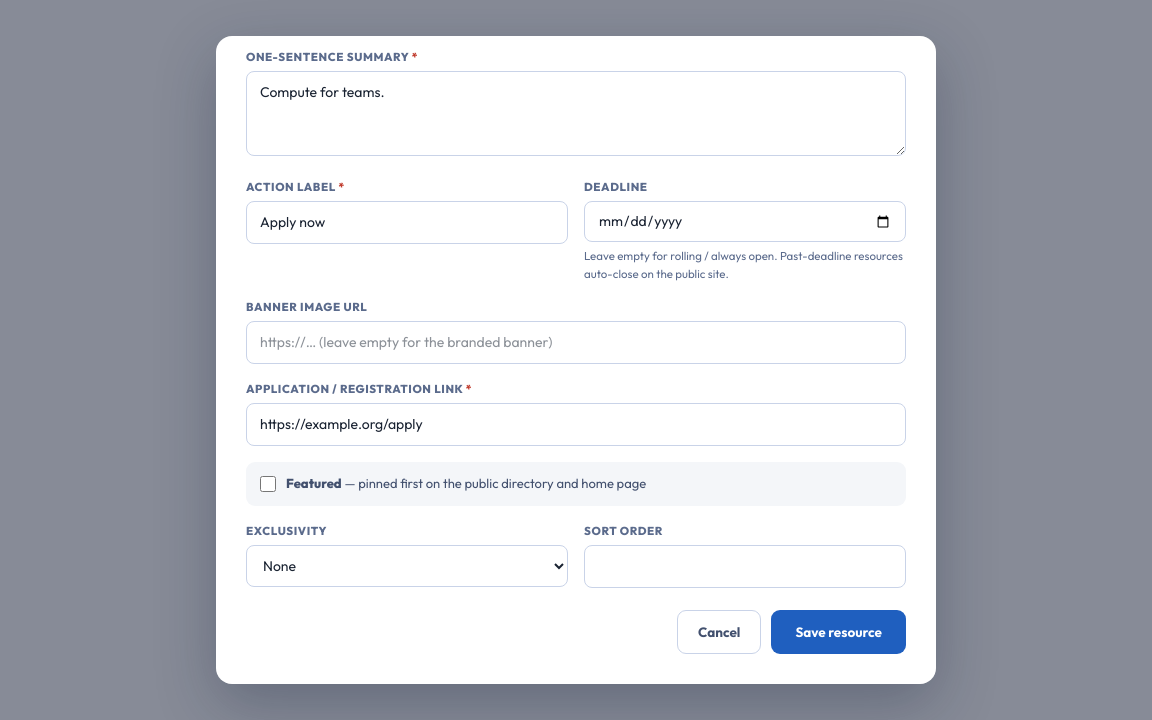
the prototype's rules over the schema › refuses a save with no eligible stage
(page scrolled)
Click the button "Save resource". click: x=839, y=632
box: [771, 610, 906, 654]
(page scrolled)
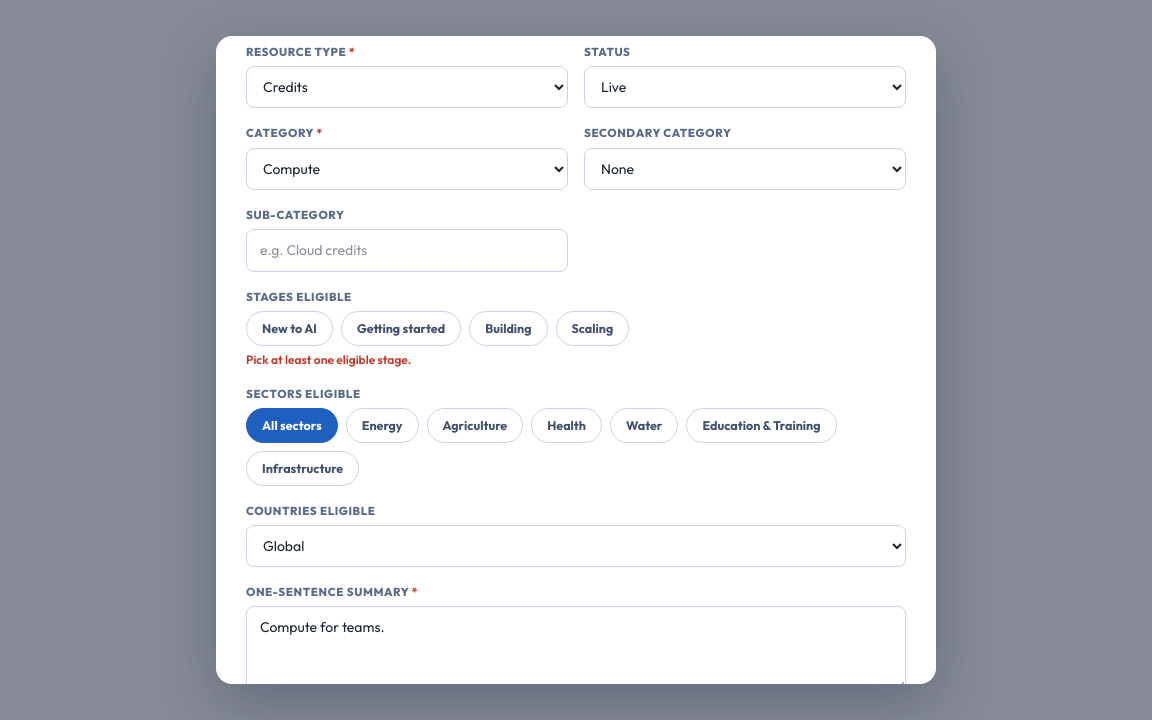
Now the text "Pick at least one eligible stage." is shown, box [246, 352, 411, 367]
